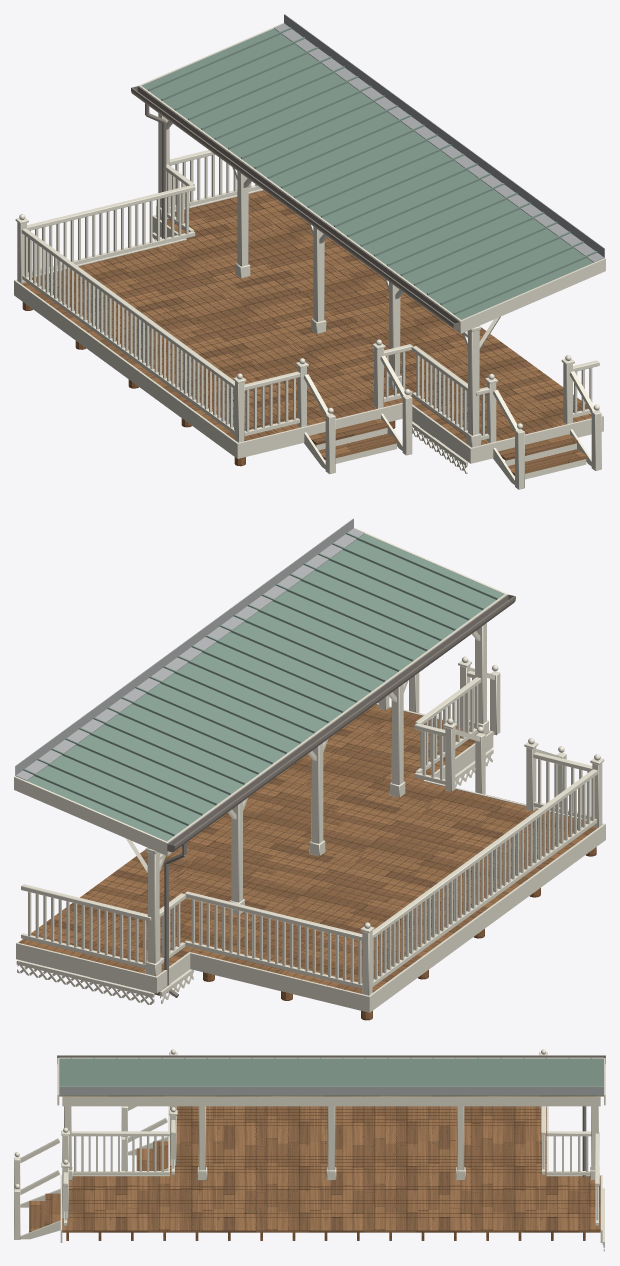
Rendered from veranda.glb.
The picture shows the model from 3 angles, top to bottom: view 1: azimuth 30°, elevation 25°; view 2: azimuth 150°, elevation 25°; view 3: azimuth 270°, elevation 25°; orthographic projection. The views are drawn at different scales.
Visible parts, largest first — view 1: veranda_deck, veranda_trim, veranda_vroof, veranda_flash, veranda_gutter; view 2: veranda_trim, veranda_deck, veranda_vroof, veranda_flash, veranda_gutter; view 3: veranda_deck, veranda_trim, veranda_vroof, veranda_flash, veranda_gutter, veranda_ceil, veranda_wood.
Part boxes in pixels (x1,y1,x2,y2): veranda_deck: [21, 190, 591, 475]; veranda_trim: [14, 23, 605, 489]; veranda_vroof: [141, 27, 597, 319]; veranda_flash: [274, 14, 604, 262]; veranda_gutter: [131, 86, 460, 330]; veranda_trim: [14, 527, 605, 1012]; veranda_deck: [18, 704, 597, 993]; veranda_vroof: [23, 532, 504, 841]; veranda_flash: [15, 518, 364, 780]; veranda_gutter: [164, 594, 515, 997]; veranda_deck: [29, 1106, 600, 1232]; veranda_trim: [14, 1049, 605, 1251]; veranda_vroof: [59, 1057, 603, 1095]; veranda_flash: [59, 1086, 603, 1094]; veranda_gutter: [57, 1055, 605, 1176]; veranda_ceil: [59, 1095, 603, 1096]; veranda_wood: [66, 1232, 585, 1240].
Size of the model in its own units: 5.53 by 3.4 by 11.
8 materials, 4 textured.
